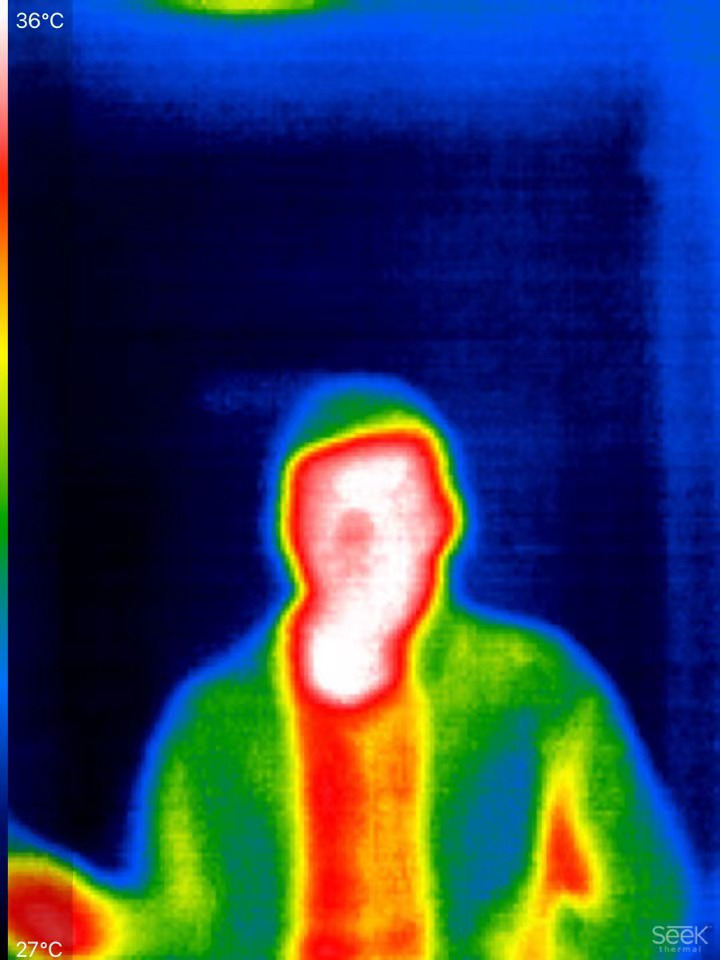Near: (119, 401, 683, 959)
